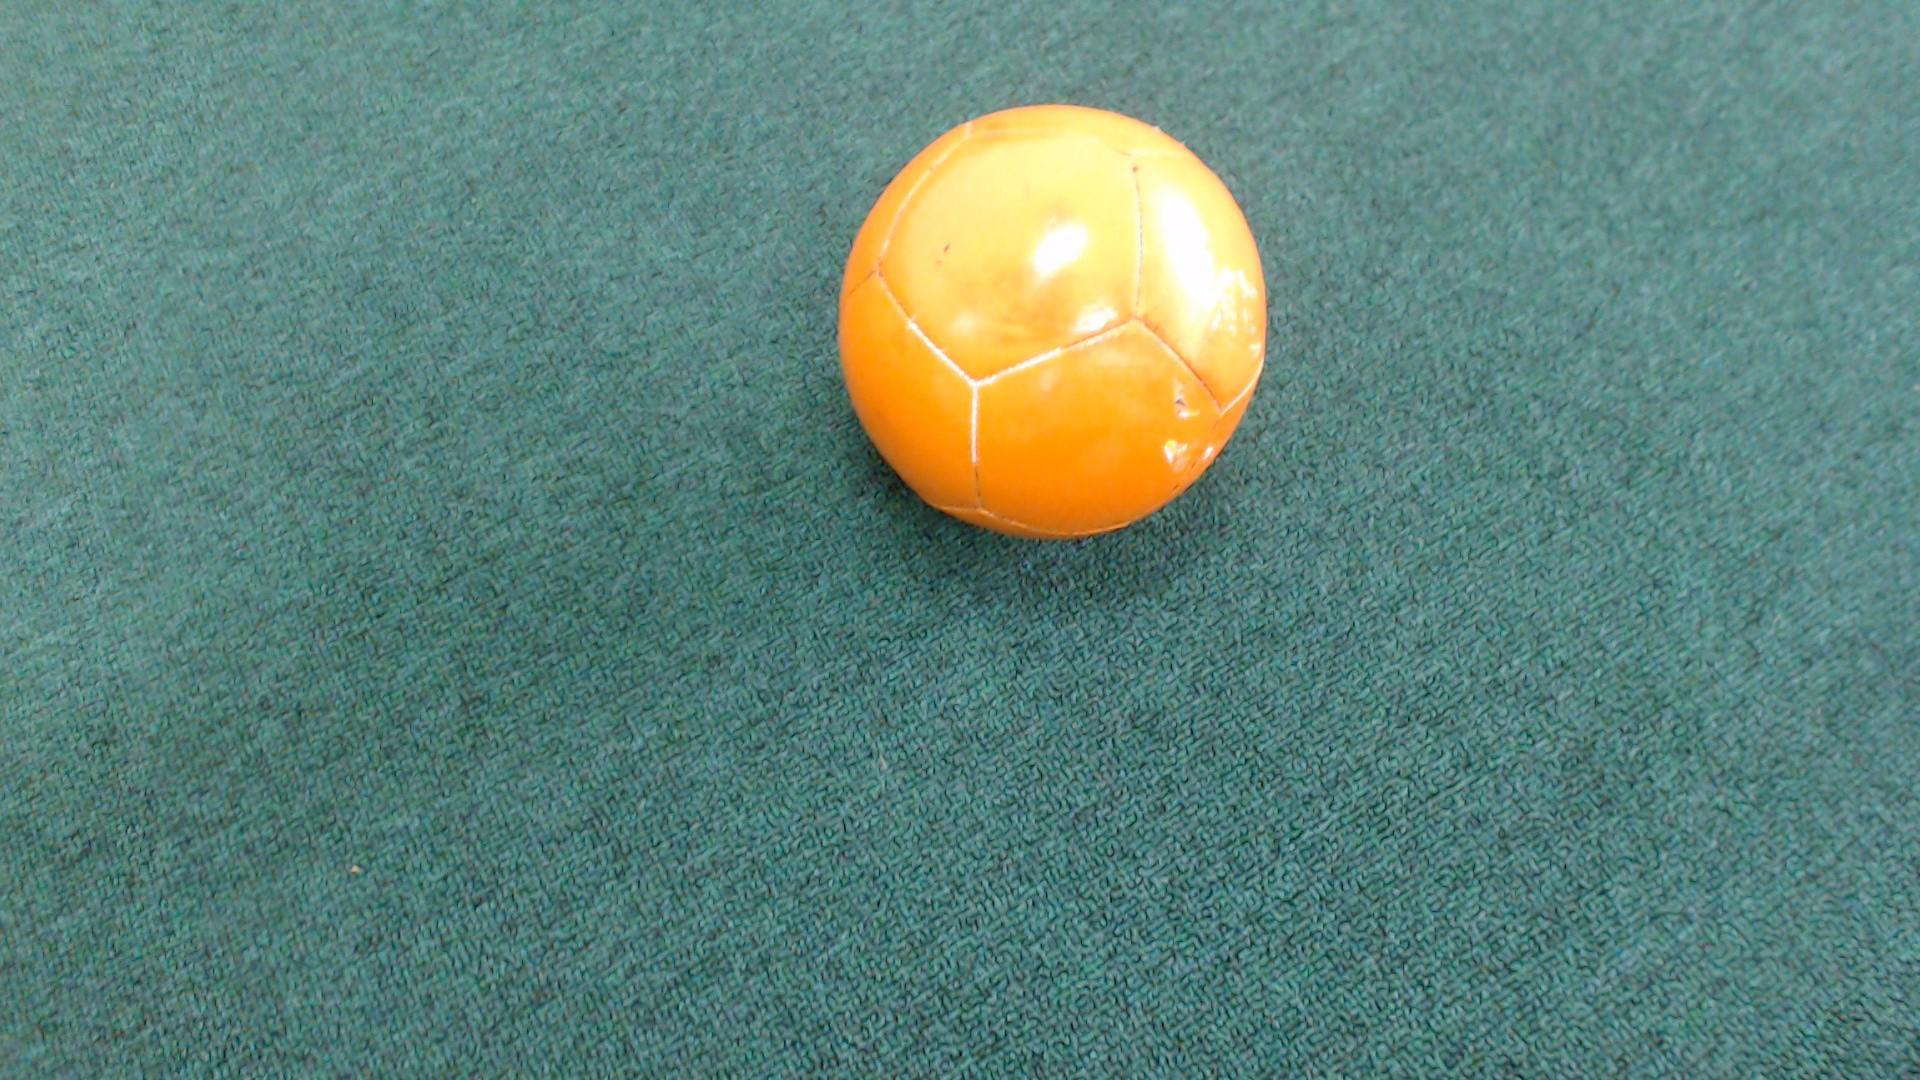bola: (818, 73, 1305, 555)
